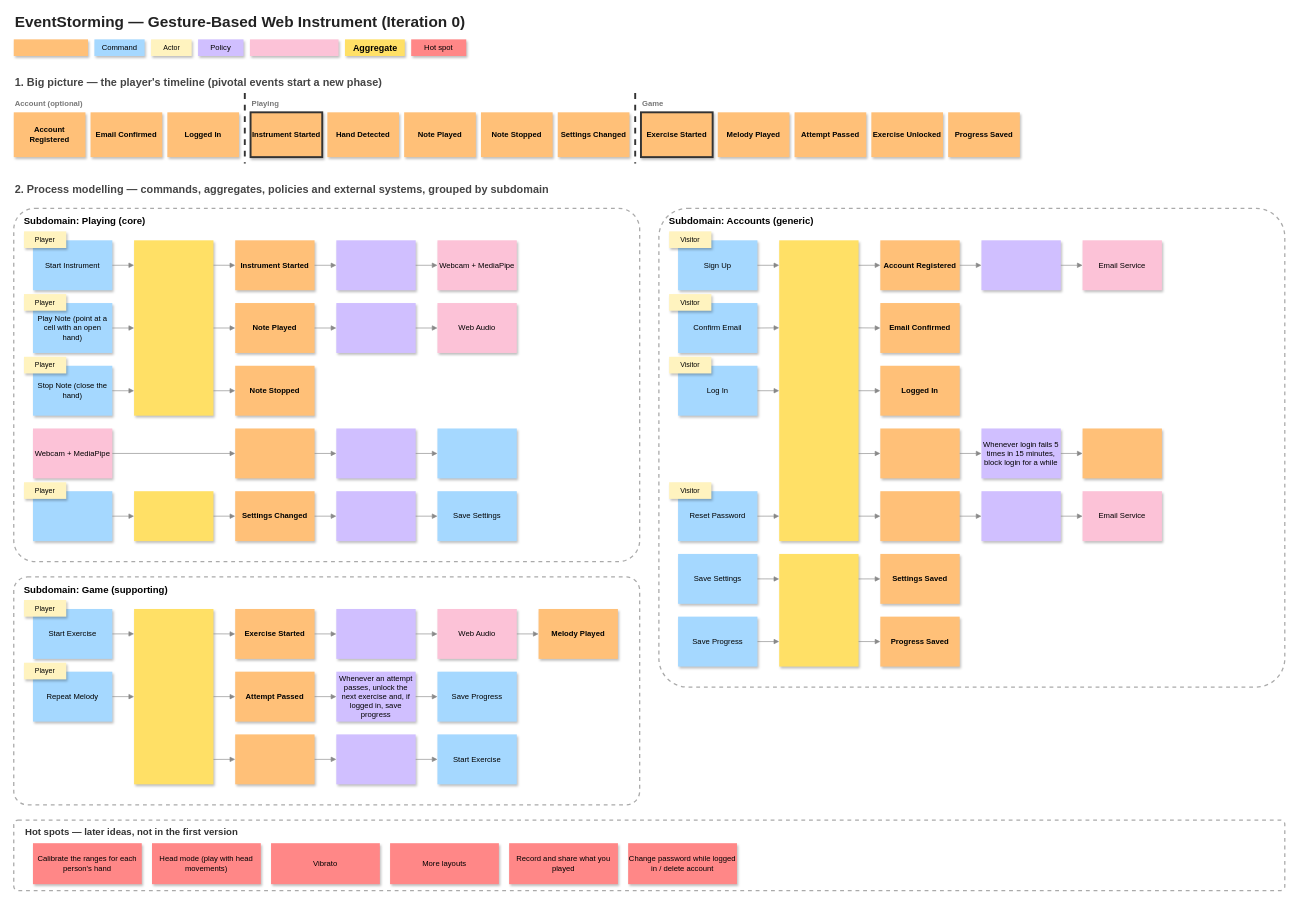
Image size: 1296x902. Some labels were removed from this diagram. The centre of each missing label's shape, as x and y in pixels:
Account: (819,391)
Attempt Failed: (275,760)
Change Settings (key, scale, layout): (73,516)
Domain event: (51,48)
Exercise Attempt: (174,697)
External system: (294,48)
Hand Lost: (275,454)
Instrument: (174,328)
Login Blocked: (1122,454)
Login Failed: (920,454)
Password Reset Requested: (920,516)
Player Profile: (819,611)
Settings: (174,516)
Stop Note: (477,454)
Whenever a note is played, sound it: (376,328)
Whenever a reset is requested, send a reset link: (1021,516)
Whenever an account is registered, send a confirmation email: (1021,265)
Whenever an attempt fails, let the player try again: (376,760)
Whenever an exercise starts, play its melody: (376,634)
Whenever settings change and the player is logged in, save them: (376,516)
Whenever the hand is lost, stop the note: (376,454)
Whenever the instrument starts, turn on the camera and hand tracking: (376,265)
